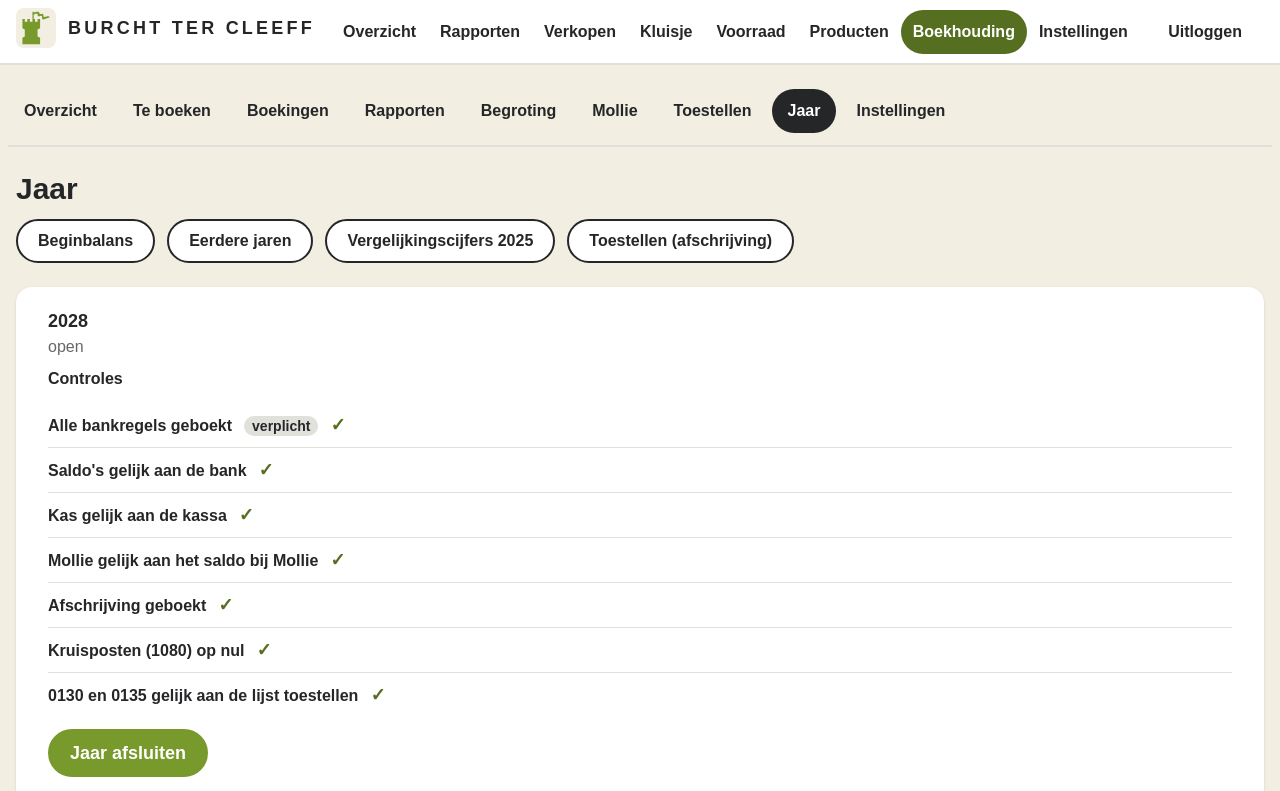
Scenario: explains a refusal because the year before is open
The width and height of the screenshot is (1280, 791).
What coordinates should you click on to do the following:
click the button "Jaar afsluiten"
I would click on:
 (128, 753)
Its box is [48,729,208,777].
(page scrolled)
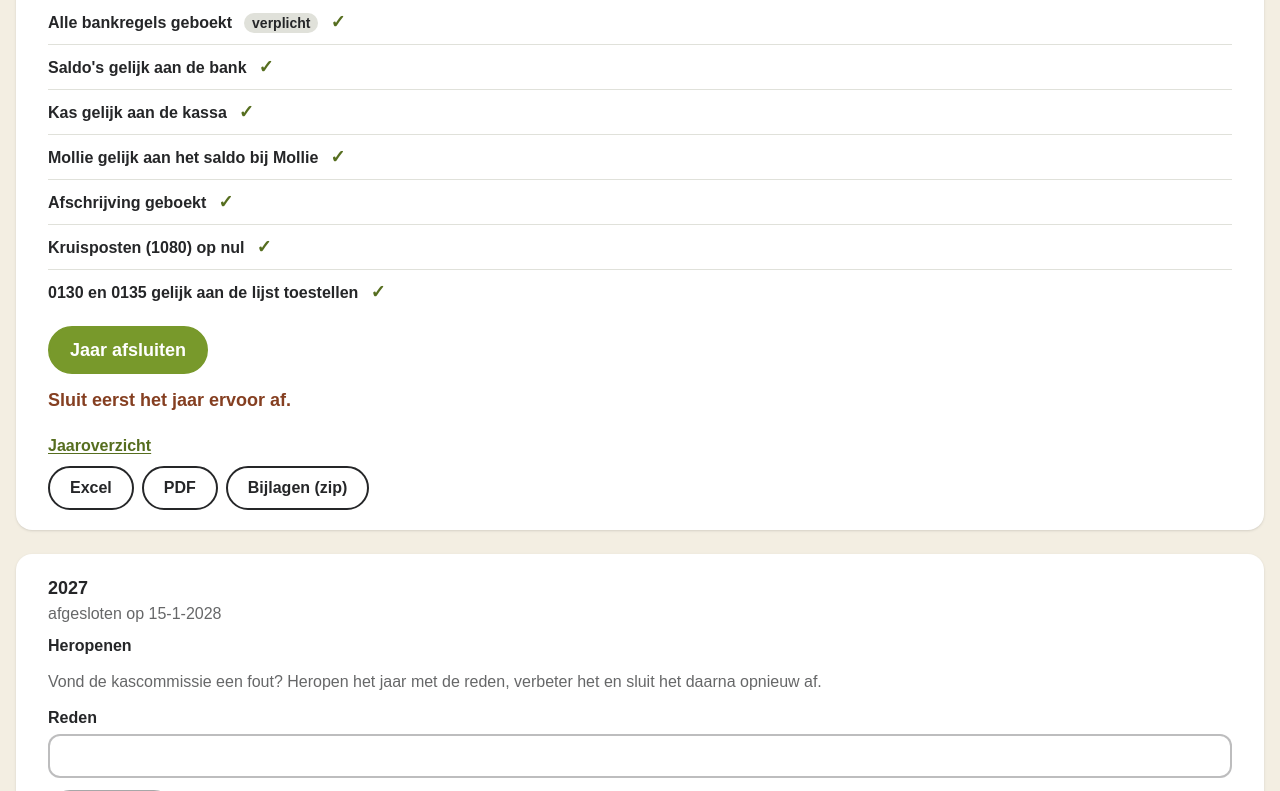
Now the text "Sluit eerst het jaar ervoor af." is shown, box [48,390,291,410]
